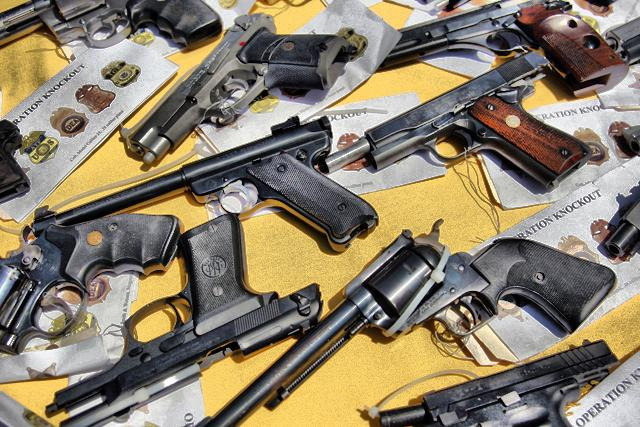pistol: (190, 213, 626, 423), (46, 214, 330, 422), (28, 116, 380, 252), (116, 8, 364, 172), (326, 49, 594, 189), (1, 201, 180, 363), (369, 0, 633, 100), (2, 1, 222, 84)
